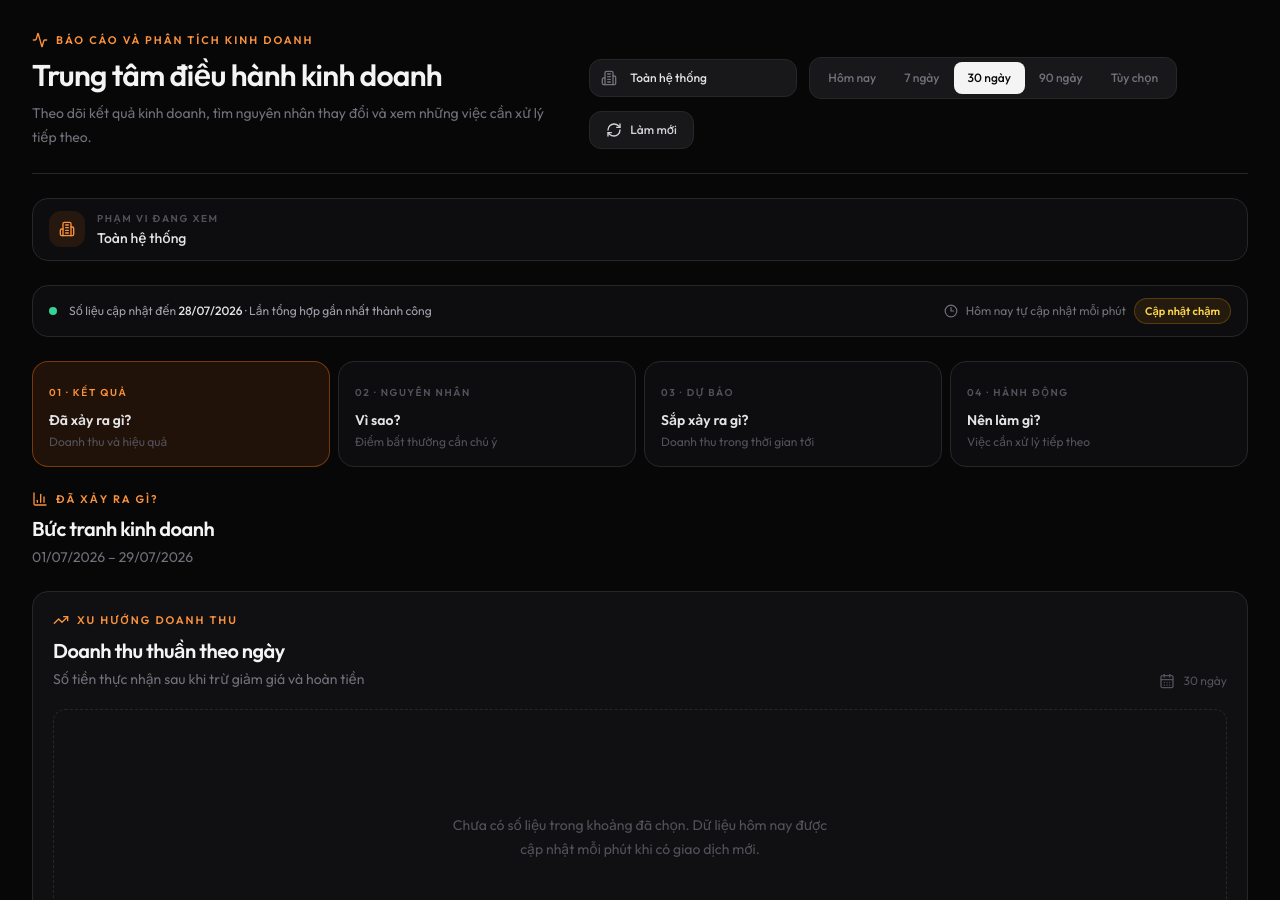
Test case: AdminAnalyticsPage › keeps accounting analytics read-only
Check: the heading "Trung tâm điều hành kinh doanh" is shown, box top-left (32, 56), bottom-right (442, 94)
Click the button "04 · Hành động Nên làm gì? Việc cần xử lý tiếp theo".
click(1018, 392)  # box top-left (950, 360), bottom-right (1248, 466)
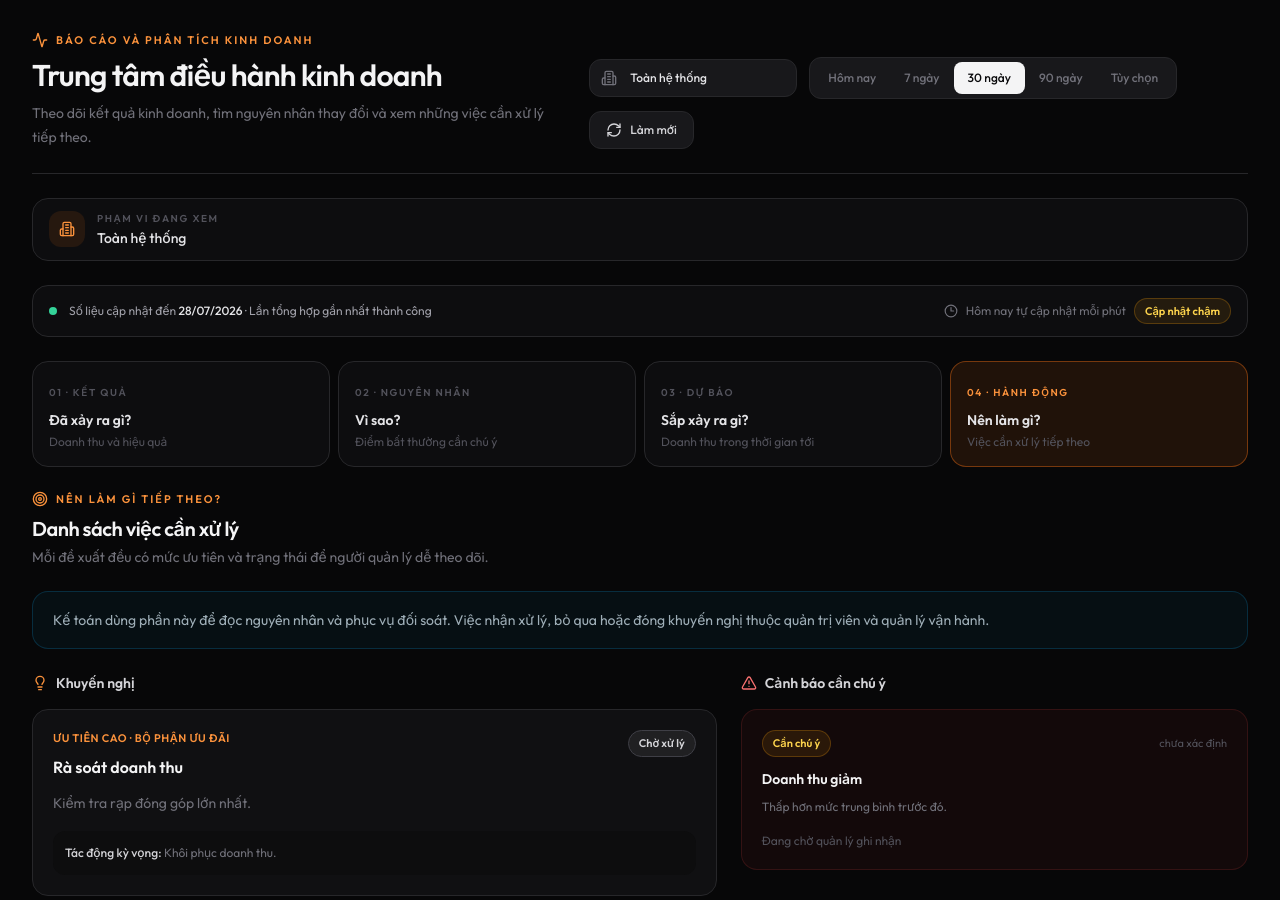
Check: the text "Kế toán dùng phần này để đọc nguyên nhân" is shown, box top-left (53, 611), bottom-right (989, 629)
